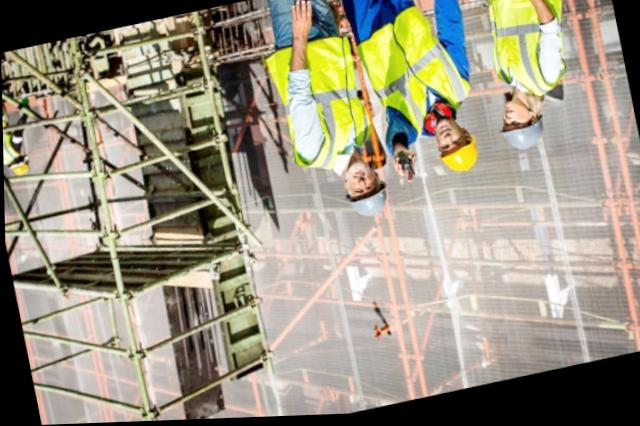helmet: (434, 138, 483, 183), (496, 120, 548, 161), (344, 183, 394, 224), (4, 152, 31, 184)
vest: (371, 3, 474, 142), (274, 43, 371, 176), (480, 0, 571, 100), (2, 122, 22, 159)
